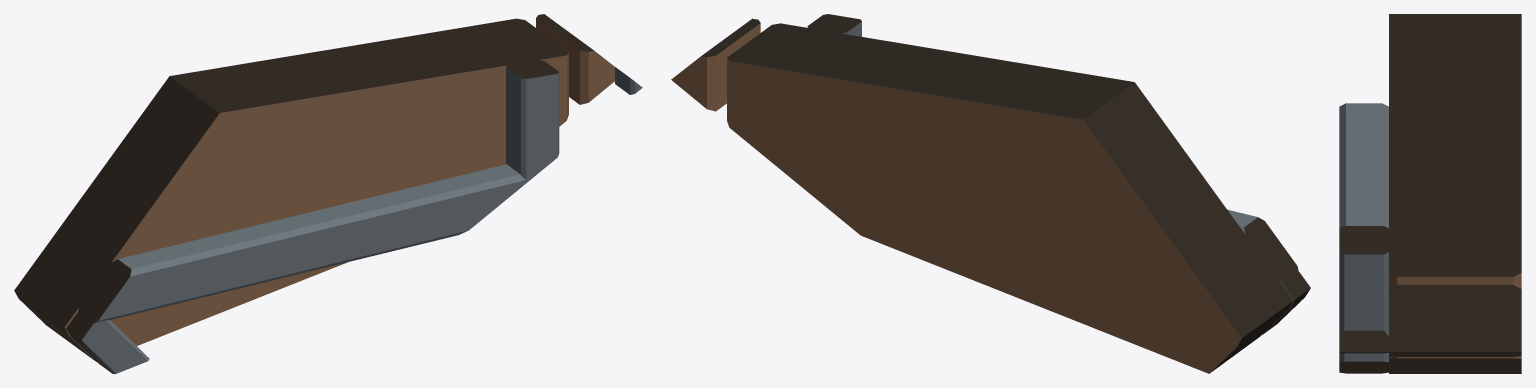
File: SM_DoorShard_03_01.fbx
3 renders of one model, left to right at view 1: azimuth 30°, elevation 25°; view 2: azimuth 150°, elevation 25°; view 3: azimuth 270°, elevation 25°, orthographic. The views are drawn at different scales.
Visible parts, largest first — view 1: SM_DoorShard_03_01; view 2: SM_DoorShard_03_01; view 3: SM_DoorShard_03_01.
Part boxes in pixels (bbox=[...]): SM_DoorShard_03_01: bbox=[14, 14, 642, 373]; SM_DoorShard_03_01: bbox=[671, 14, 1310, 373]; SM_DoorShard_03_01: bbox=[1339, 14, 1521, 373].
Size of the model in its own units: 103 by 22 by 38.4.
